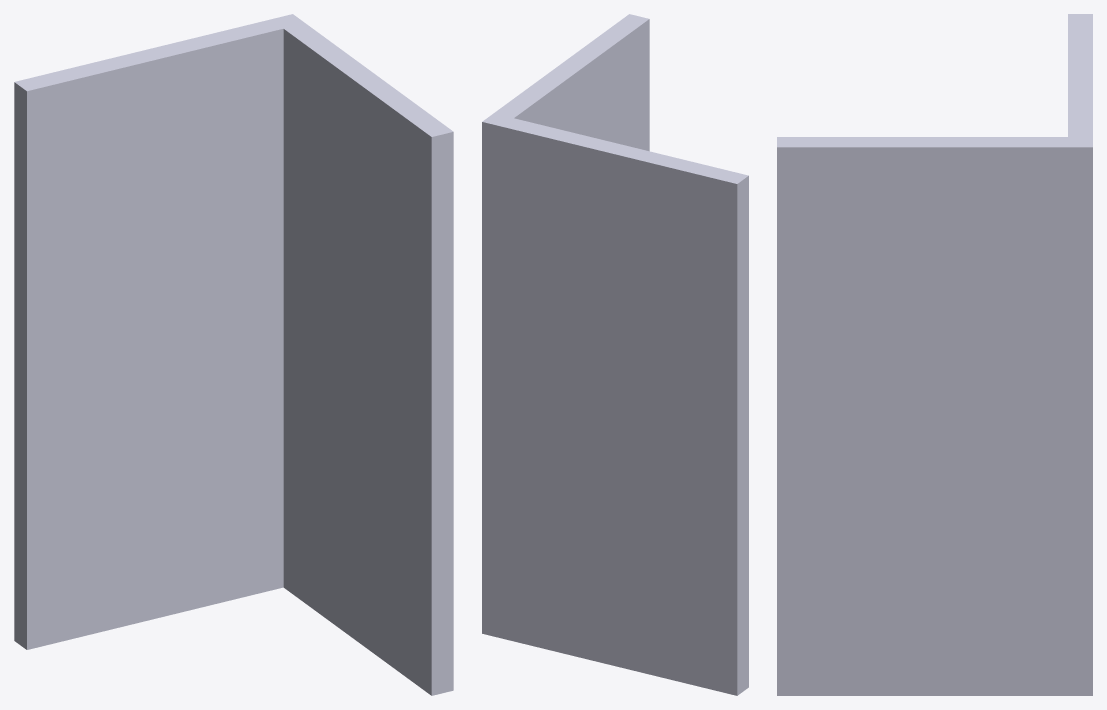
The model's file is obj_wall_corner_outer.FBX.
The picture shows the model from 3 angles, left to right: view 1: azimuth 30°, elevation 25°; view 2: azimuth 150°, elevation 25°; view 3: azimuth 270°, elevation 25°; orthographic projection. The views are drawn at different scales.
Parts seen in each view (by area): view 1: obj_wall_corner_outer; view 2: obj_wall_corner_outer; view 3: obj_wall_corner_outer.
Part boxes in pixels (x1=…): obj_wall_corner_outer: x1=14, y1=14, x2=453, y2=695; obj_wall_corner_outer: x1=482, y1=14, x2=748, y2=695; obj_wall_corner_outer: x1=777, y1=14, x2=1092, y2=695.
Size of the model in its own units: 1 by 1.92 by 1.
